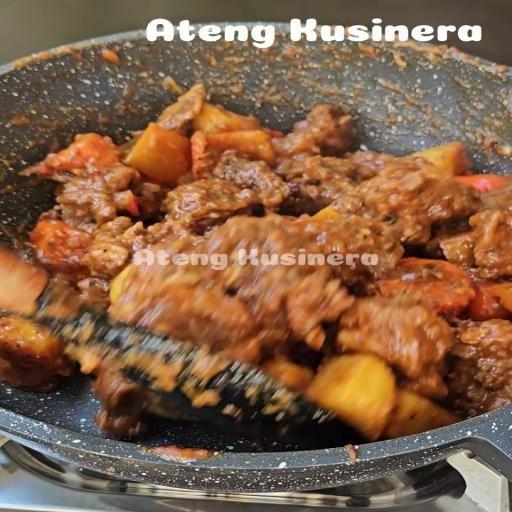pork caldereta: (12, 85, 512, 242)
